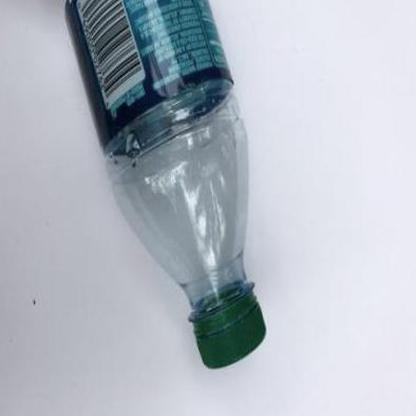plastic bottle: (58, 1, 268, 369)
